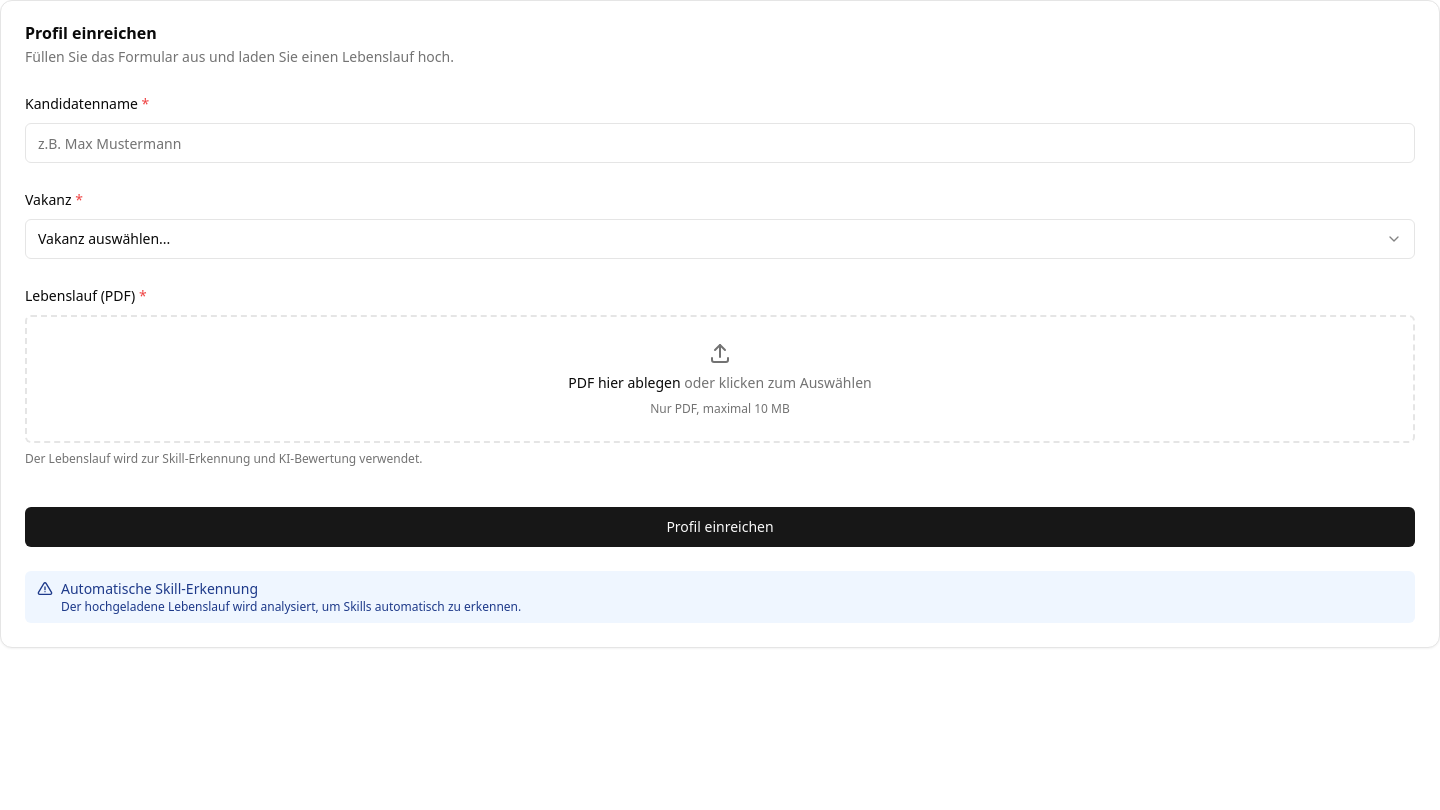
SkillUploadForm › shows validation errors for empty required fields
Step 1. Click the button "Profil einreichen" → (720, 527), box [25,507,1415,547]
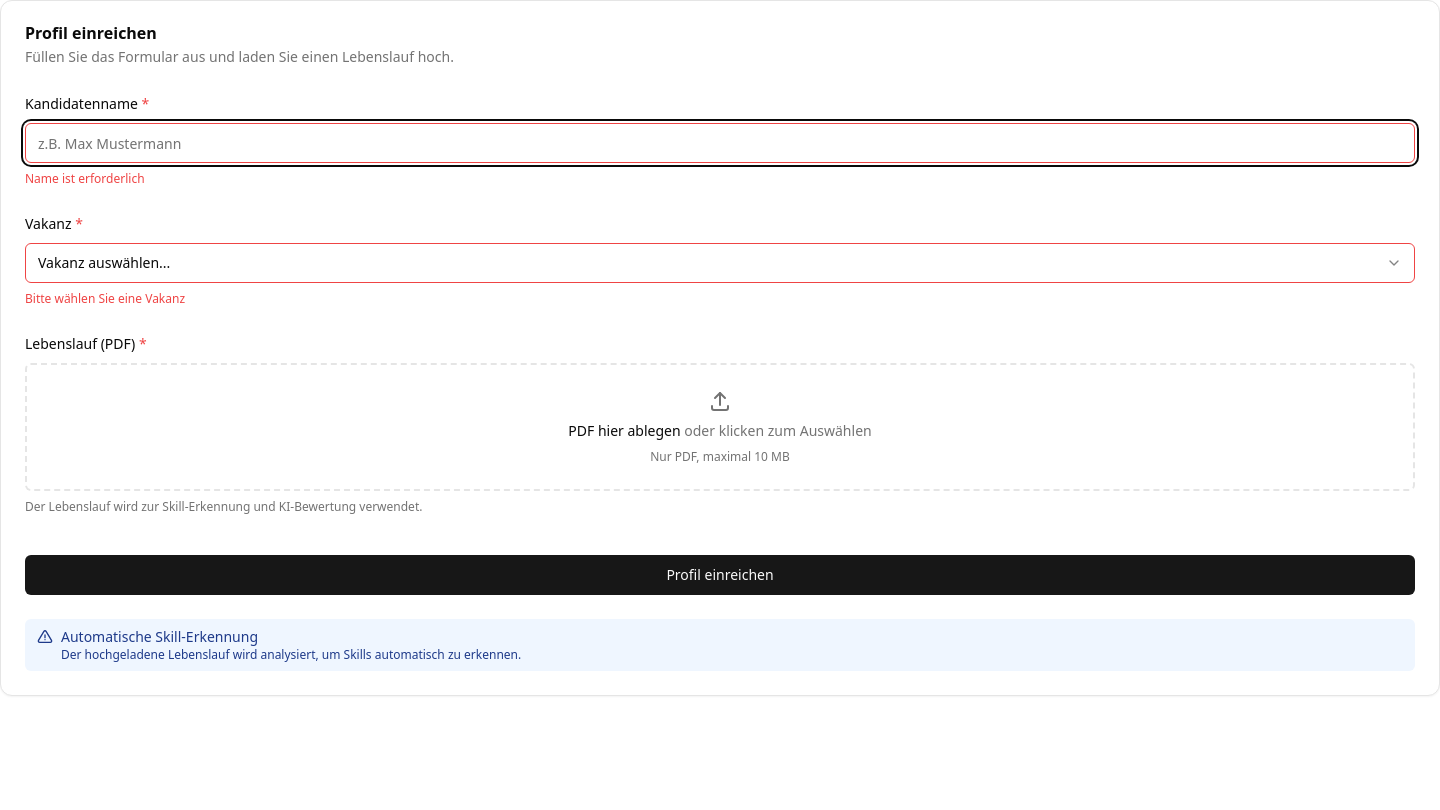
Expected: the text "Name ist erforderlich" is shown, [25,170,145,187]
Expected: the text "Bitte wählen Sie eine Vakanz" is shown, [25,290,185,307]
